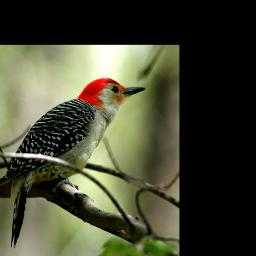Woodpecker: (0, 77, 145, 248)
